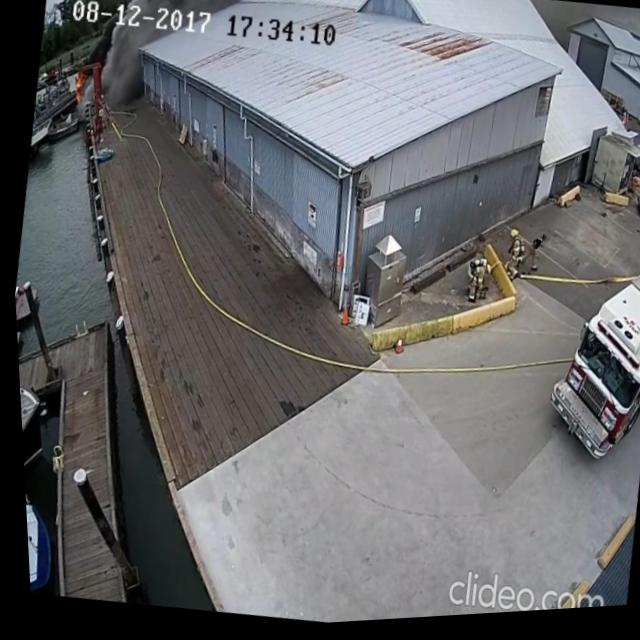fire: (67, 65, 90, 110)
